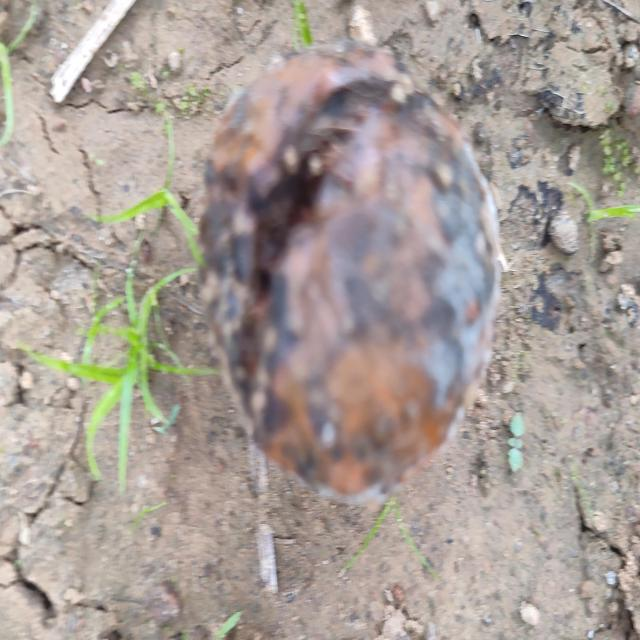damaged: (193, 42, 505, 510)
